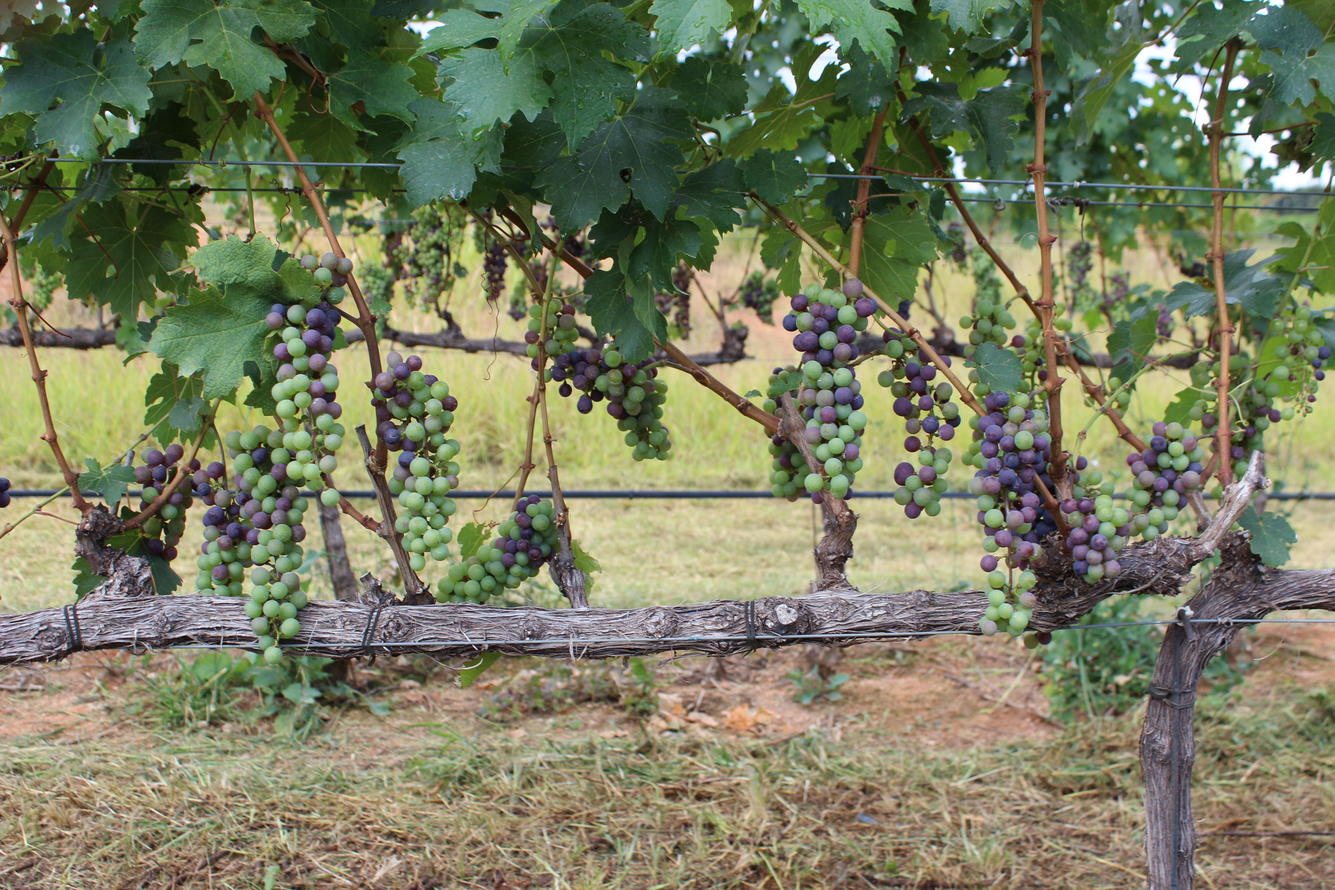leaf: (534, 85, 691, 231), (0, 29, 152, 159), (511, 3, 650, 144), (135, 0, 316, 98), (65, 201, 196, 319), (150, 285, 272, 399), (396, 98, 502, 206), (903, 82, 1025, 169), (440, 47, 553, 136), (585, 267, 666, 362), (328, 48, 421, 129), (798, 0, 901, 64), (672, 159, 746, 232), (671, 56, 747, 121), (835, 41, 895, 116), (650, 0, 731, 53), (742, 149, 807, 204), (1239, 506, 1297, 567), (966, 342, 1022, 392), (79, 458, 135, 504), (931, 0, 1000, 34), (455, 651, 501, 688), (71, 557, 107, 602), (457, 522, 486, 560), (882, 0, 913, 11), (316, 155, 343, 157), (526, 112, 532, 117), (813, 22, 815, 24), (804, 9, 805, 11)
